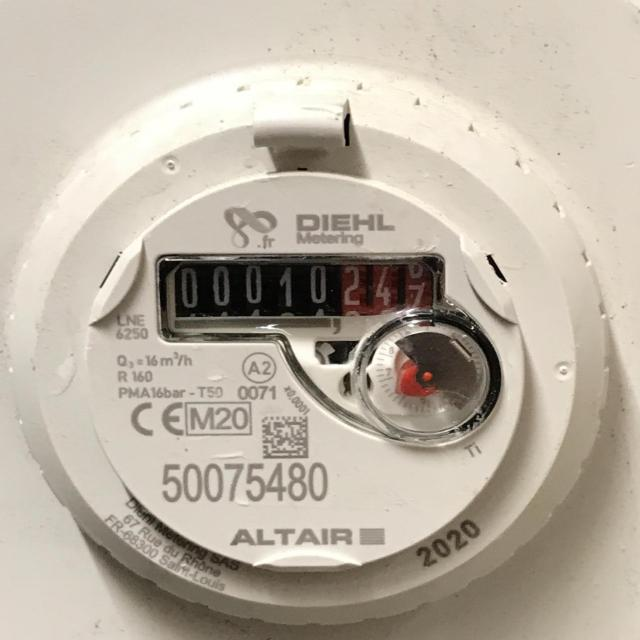gaz_meter: (82, 169, 530, 571)
indication: (165, 264, 433, 318)
